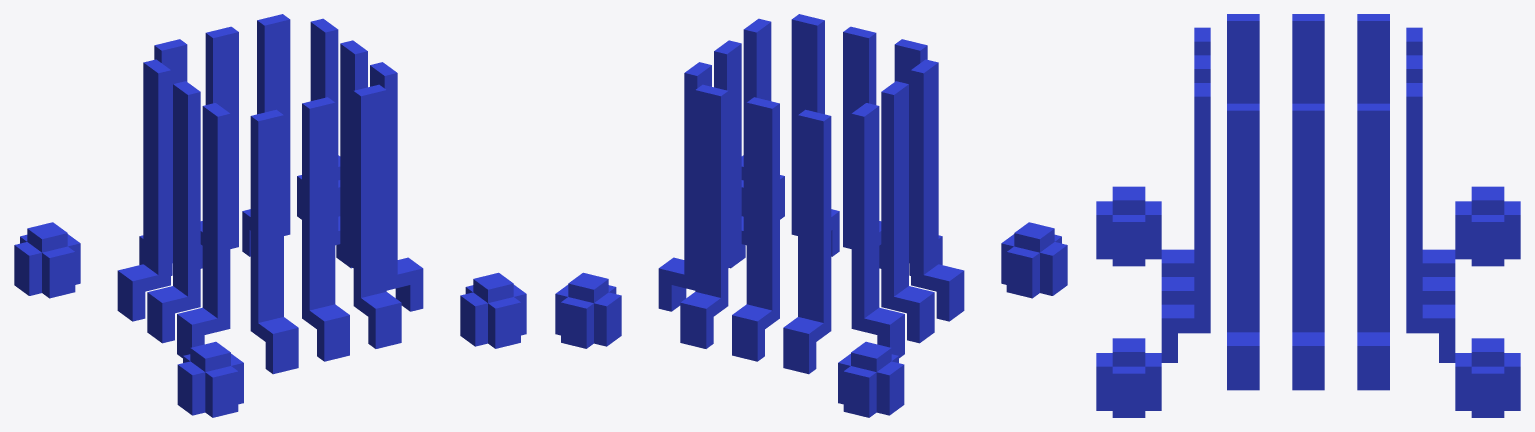
The model's file is TowerTest-1.obj.
3 renders of one model, left to right at view 1: azimuth 30°, elevation 25°; view 2: azimuth 150°, elevation 25°; view 3: azimuth 270°, elevation 25°, orthographic. The views are drawn at different scales.
Bounding box in the file's own units: 2.6 × 1.8 × 2.6.
Materials: 1 (1 with a texture image).
